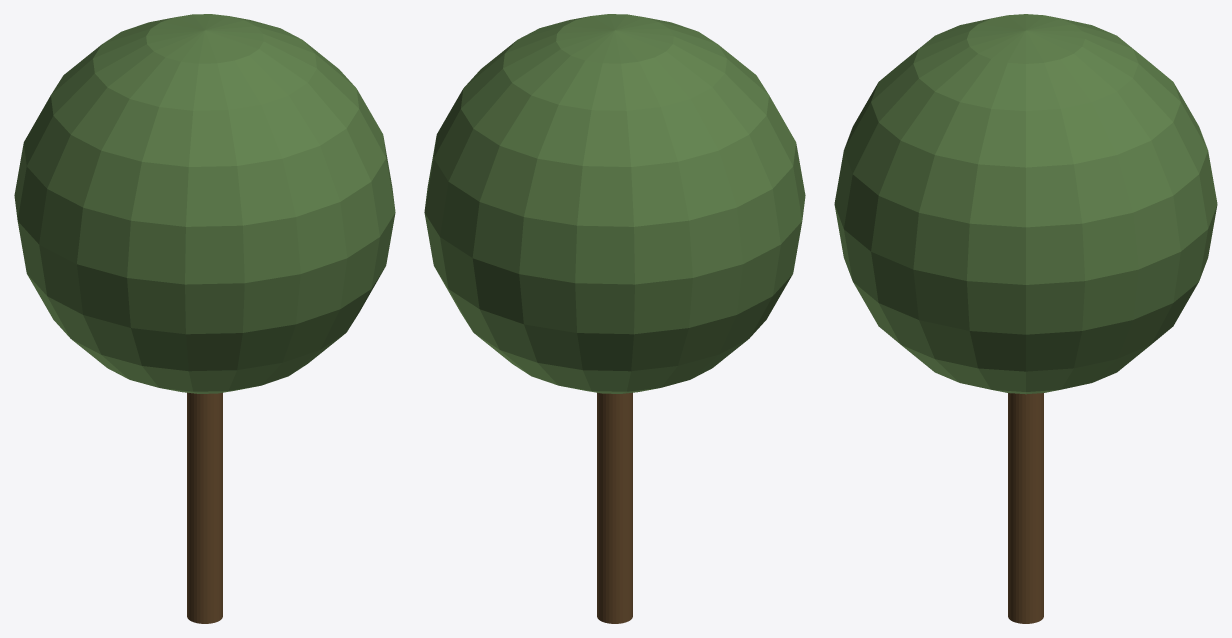
Rendered from Tree.glb.
3 views of the same model, side by side, from view 1: azimuth 30°, elevation 25°; view 2: azimuth 150°, elevation 25°; view 3: azimuth 270°, elevation 25° (orthographic).
Parts seen in each view (by area): view 1: Canopy, Trunk; view 2: Canopy, Trunk; view 3: Canopy, Trunk.
Part boxes in pixels (<box>): Canopy: <box>14,14,395,393</box>; Trunk: <box>187,392,222,623</box>; Canopy: <box>424,14,805,393</box>; Trunk: <box>597,392,632,623</box>; Canopy: <box>834,14,1217,394</box>; Trunk: <box>1008,393,1043,623</box>.
Size of the model in its own units: 3.2 by 5.4 by 3.2.
